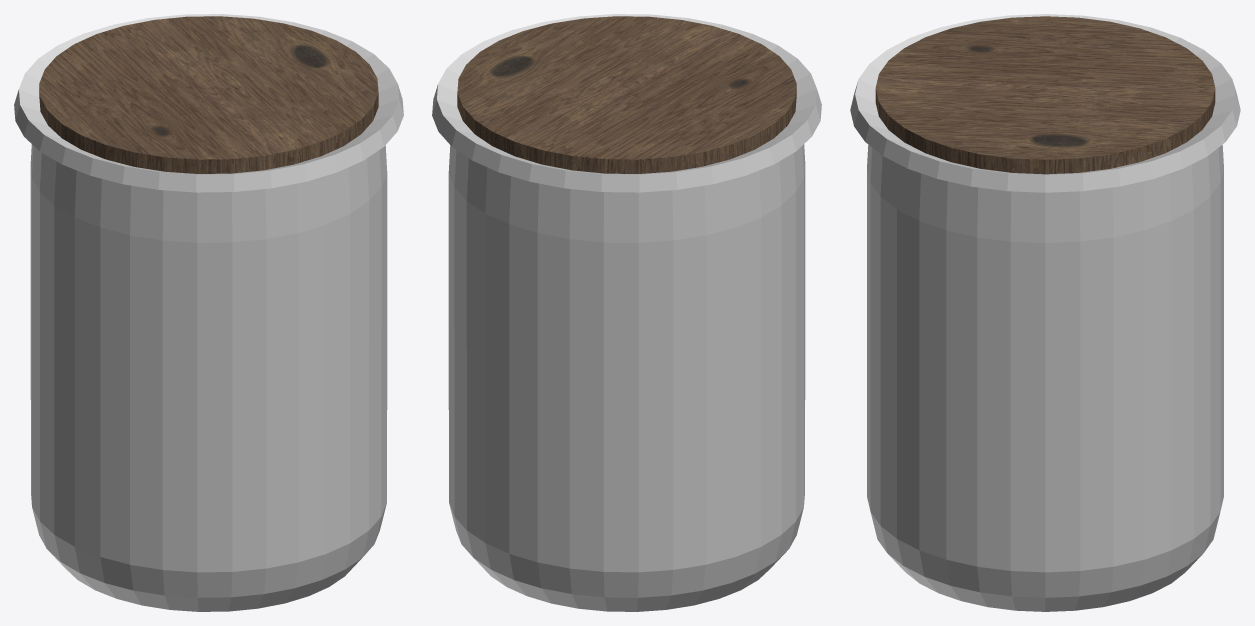
Rendered from Jar.fbx.
The picture shows the model from 3 angles, left to right: view 1: azimuth 30°, elevation 25°; view 2: azimuth 150°, elevation 25°; view 3: azimuth 270°, elevation 25°; orthographic projection.
Parts seen in each view (by area): view 1: Jar, Cap; view 2: Jar, Cap; view 3: Jar, Cap.
Boxes of the visible parts, x1=… form: Jar: x1=14, y1=14, x2=403, y2=611; Cap: x1=39, y1=16, x2=378, y2=173; Jar: x1=432, y1=14, x2=821, y2=611; Cap: x1=457, y1=16, x2=796, y2=173; Jar: x1=850, y1=14, x2=1240, y2=611; Cap: x1=875, y1=16, x2=1215, y2=174.
Bounding box in the file's own units: 23 × 30.42 × 23.
2 materials, 1 textured.
